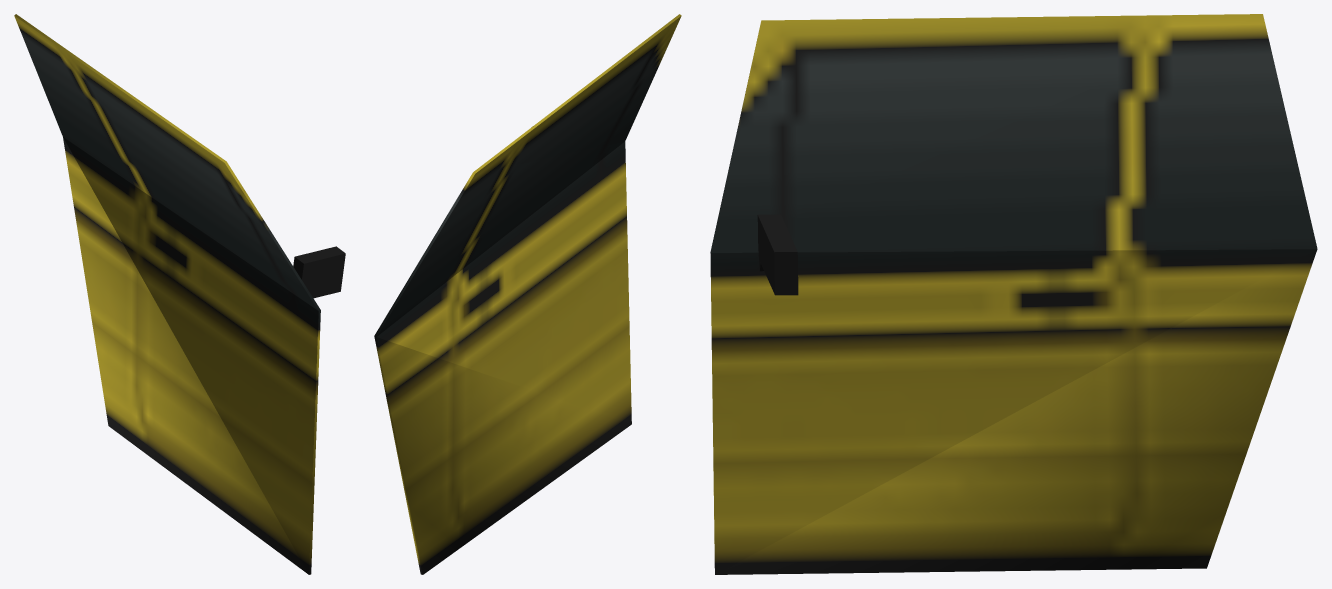
File: car_cricket_yellow_door_FL.obj
3 views of the same model, side by side, from view 1: azimuth 30°, elevation 25°; view 2: azimuth 150°, elevation 25°; view 3: azimuth 270°, elevation 25° (orthographic). The views are drawn at different scales.
Parts seen in each view (by area): view 1: Car3.002; view 2: Car3.002; view 3: Car3.002.
Part boxes in pixels (x1,y1,x2,y2): Car3.002: [14, 14, 345, 574]; Car3.002: [374, 14, 681, 574]; Car3.002: [710, 14, 1317, 574].
Size of the model in its own units: 0.6 by 1.78 by 1.89.
